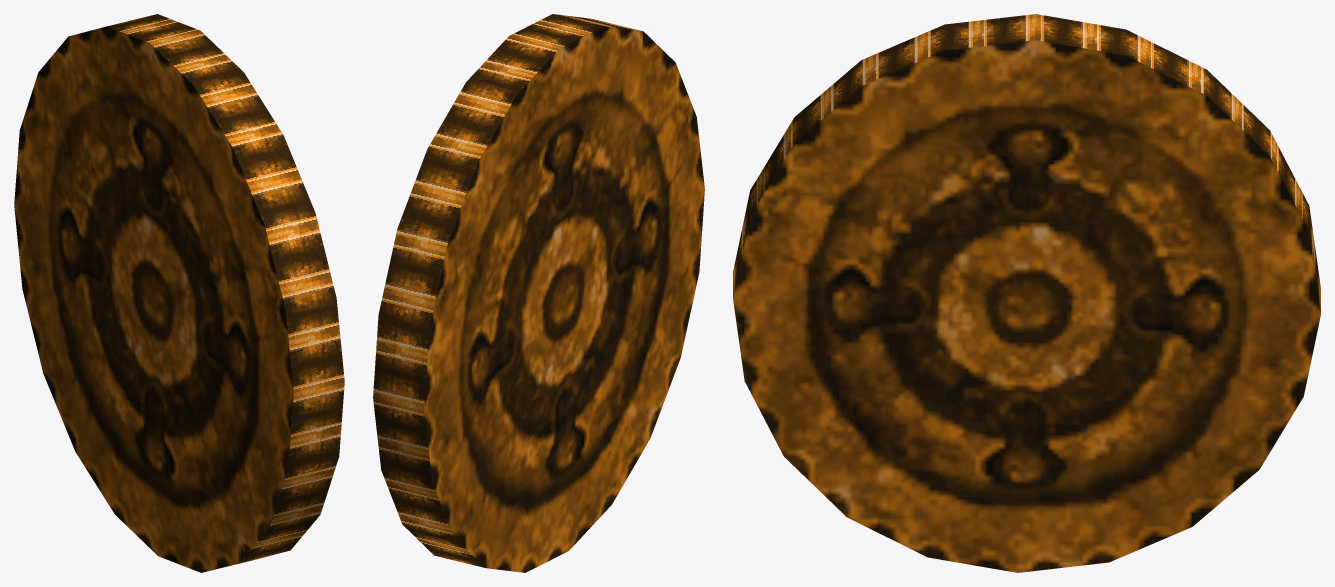
Rendered from INST_PUZZLE_PIECE2_PIECE2_COPPER.fbx.
3 views of the same model, side by side, from view 1: azimuth 30°, elevation 25°; view 2: azimuth 150°, elevation 25°; view 3: azimuth 270°, elevation 25° (orthographic). The views are drawn at different scales.
Visible parts, largest first — view 1: INST_PUZZLE_PIECE2_PIECE2_COPPER; view 2: INST_PUZZLE_PIECE2_PIECE2_COPPER; view 3: INST_PUZZLE_PIECE2_PIECE2_COPPER.
Boxes of the visible parts, left/top/right/bottom form: INST_PUZZLE_PIECE2_PIECE2_COPPER: left=14, top=14, right=344, bottom=572; INST_PUZZLE_PIECE2_PIECE2_COPPER: left=373, top=14, right=704, bottom=572; INST_PUZZLE_PIECE2_PIECE2_COPPER: left=733, top=14, right=1320, bottom=572.
Size of the model in its own units: 488 by 4648 by 4648.
2 materials, 2 textured.
